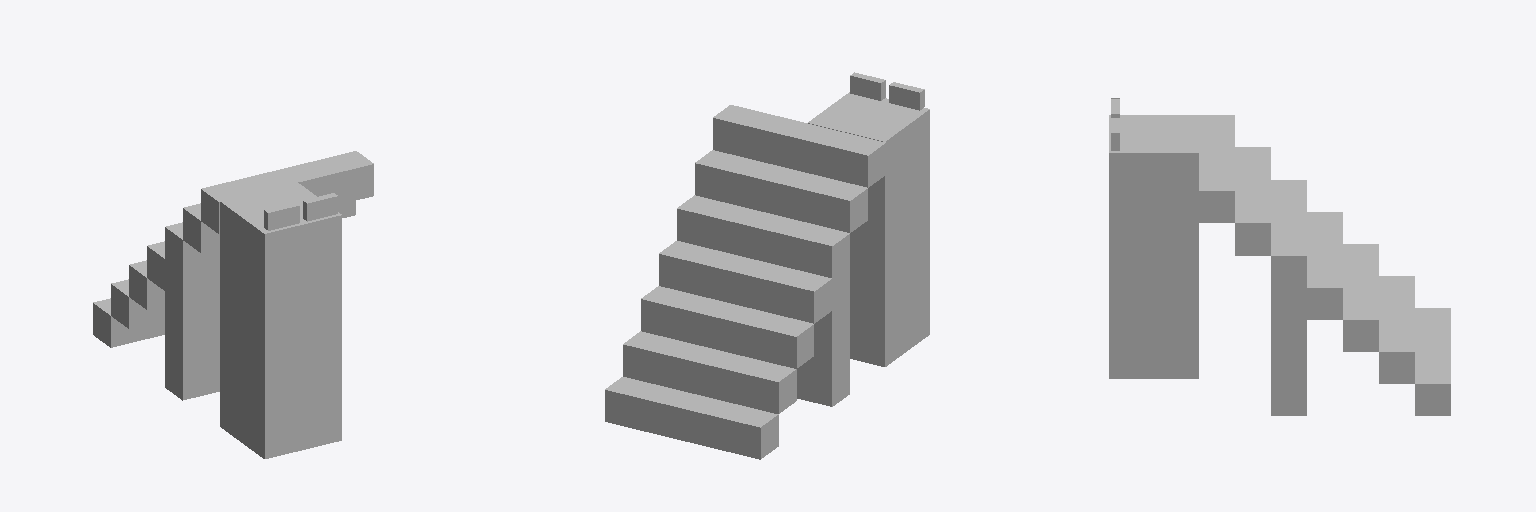
File: full_wall2.obj
3 renders of one model, left to right at view 1: azimuth 30°, elevation 25°; view 2: azimuth 150°, elevation 25°; view 3: azimuth 270°, elevation 25°, orthographic.
Parts seen in each view (by area): view 1: Middle, Stair7, Stair1, Stair2, Stair3, Stair6, Stair5, Stair4; view 2: Middle, Stair7, Stair4, Stair6, Stair5, Stair3, Stair1, Stair2; view 3: Middle, Stair3, Stair5, Stair7, Stair4, Stair2.
Boxes of the visible parts, <box> form: Middle: <box>220,182,341,458</box>; Stair7: <box>148,201,355,399</box>; Stair1: <box>93,189,218,400</box>; Stair2: <box>147,164,373,290</box>; Stair3: <box>202,151,373,201</box>; Stair6: <box>111,316,219,399</box>; Stair5: <box>93,279,164,328</box>; Stair4: <box>130,241,164,309</box>; Middle: <box>808,72,929,366</box>; Stair7: <box>677,150,867,406</box>; Stair4: <box>641,241,813,368</box>; Stair6: <box>625,118,867,413</box>; Stair5: <box>605,286,812,427</box>; Stair3: <box>605,105,885,459</box>; Stair1: <box>761,143,885,458</box>; Stair2: <box>814,189,867,323</box>; Middle: <box>1109,98,1198,378</box>; Stair3: <box>1199,115,1450,415</box>; Stair5: <box>1271,245,1450,383</box>; Stair7: <box>1235,147,1341,285</box>; Stair4: <box>1199,191,1378,415</box>; Stair2: <box>1235,224,1342,319</box>.
Size of the model in its own units: 100 by 150 by 190.